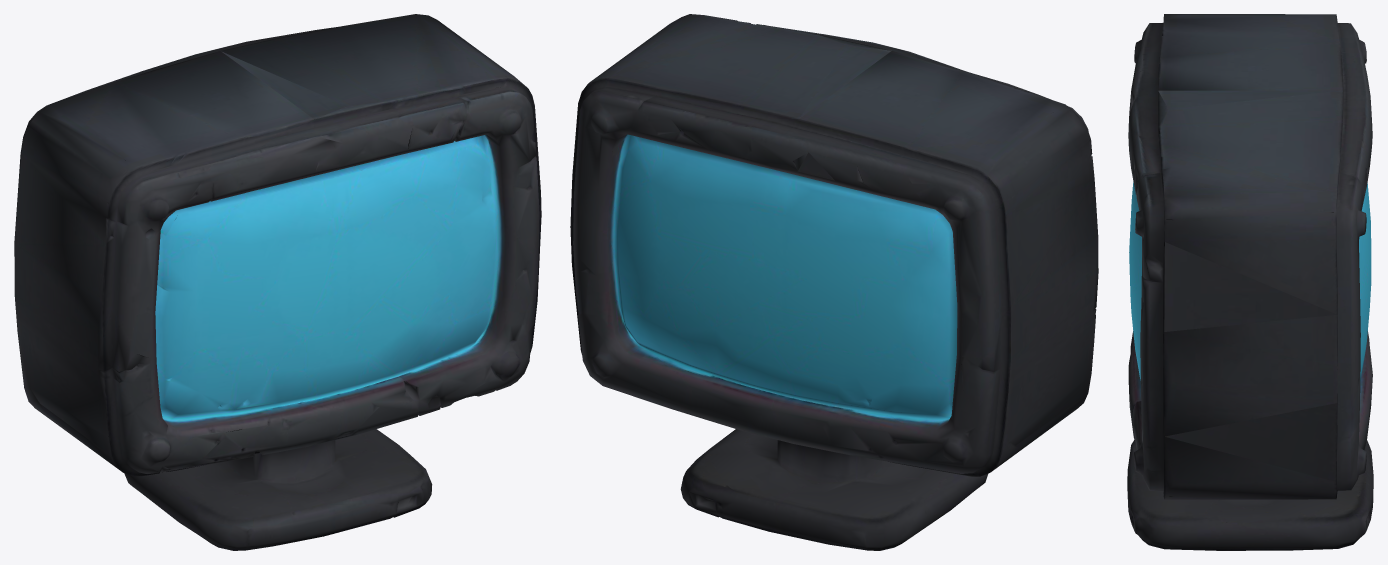
File: monitor.glb
The picture shows the model from 3 angles, left to right: view 1: azimuth 30°, elevation 25°; view 2: azimuth 150°, elevation 25°; view 3: azimuth 270°, elevation 25°; orthographic projection.
Parts seen in each view (by area): view 1: body, screen; view 2: body, back; view 3: body, screen, back.
Part boxes in pixels (x1,y1,x2,y2): body: (14, 14, 541, 550); screen: (155, 135, 498, 420); body: (570, 14, 1098, 550); back: (607, 134, 957, 424); body: (1127, 14, 1373, 550); screen: (1129, 182, 1141, 380); back: (1137, 183, 1371, 417).
Bounding box in the file's own units: 0.9799 × 0.8675 × 0.4795.
1 material, 1 textured.
